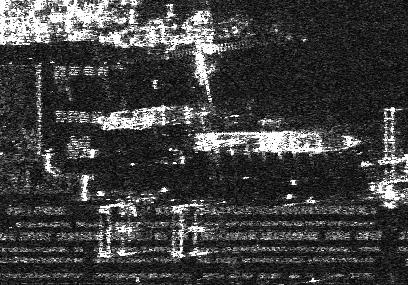ship: (193, 128, 364, 156)
